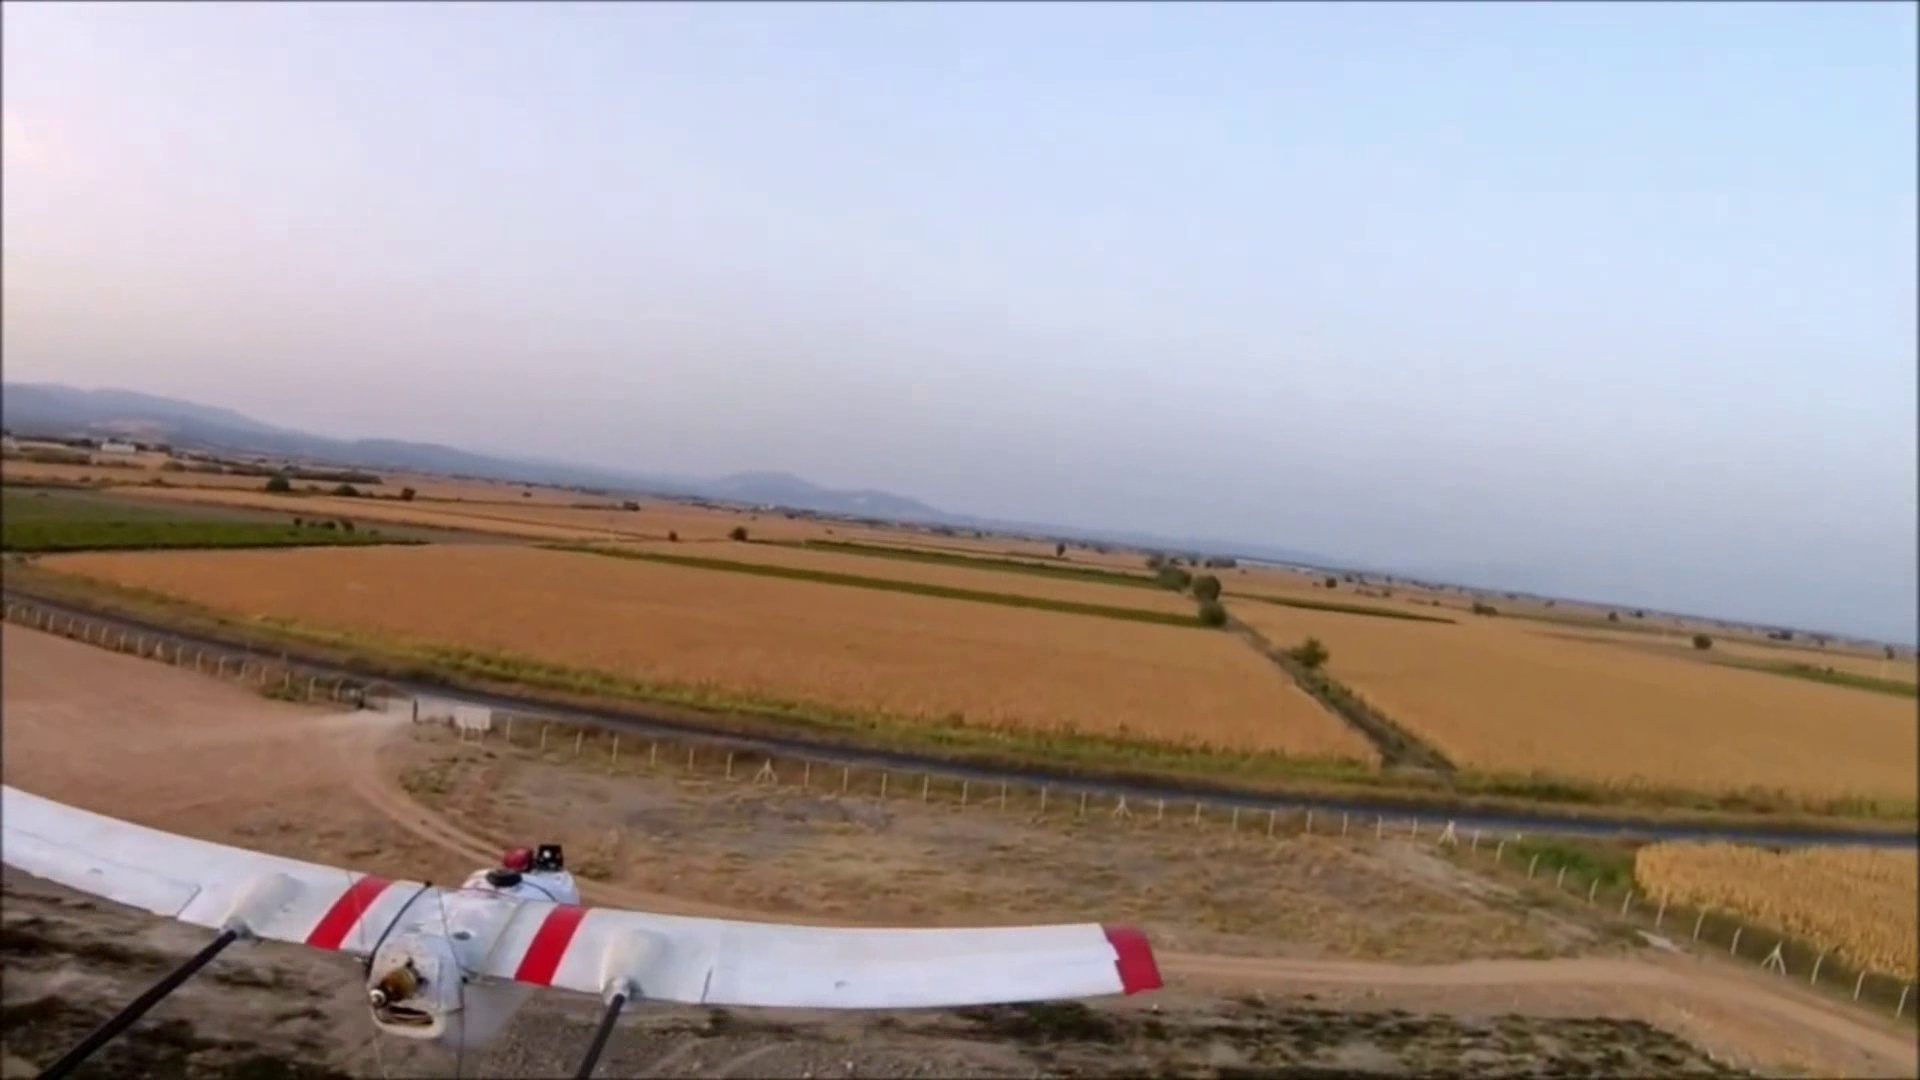airplane: (1, 778, 1165, 1035)
